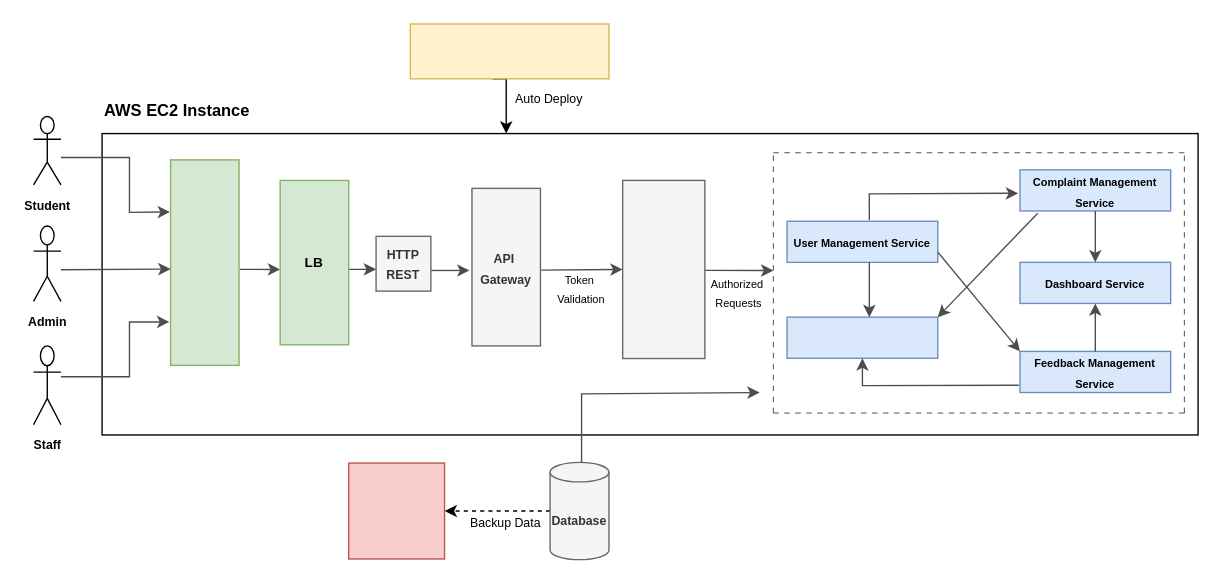
Some shapes in this 1222 by 584 pixel diagram are drawn without their labels. The centre of each missing label's shape, as x and y in pixels:
Authentication & Authorization Layer: [663,269]
Database Backup Service: [396,510]
GitHub Actions(CI/CD): [509,51]
Notification Service: [862,337]
Web Interface: [204,262]
